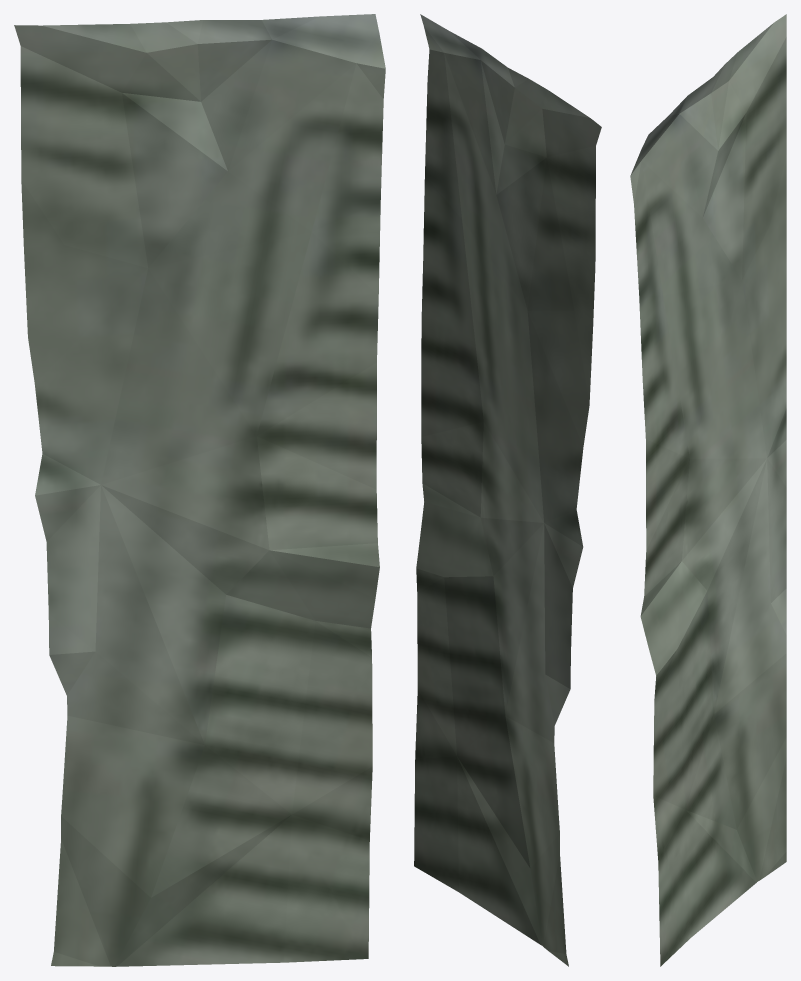
3 views of the same model, side by side, from view 1: azimuth 30°, elevation 25°; view 2: azimuth 150°, elevation 25°; view 3: azimuth 270°, elevation 25° (orthographic). The views are drawn at different scales.
Size of the model in its own units: 0.2605 by 0.8374 by 0.1426.
Materials: 1 (1 with a texture image).
